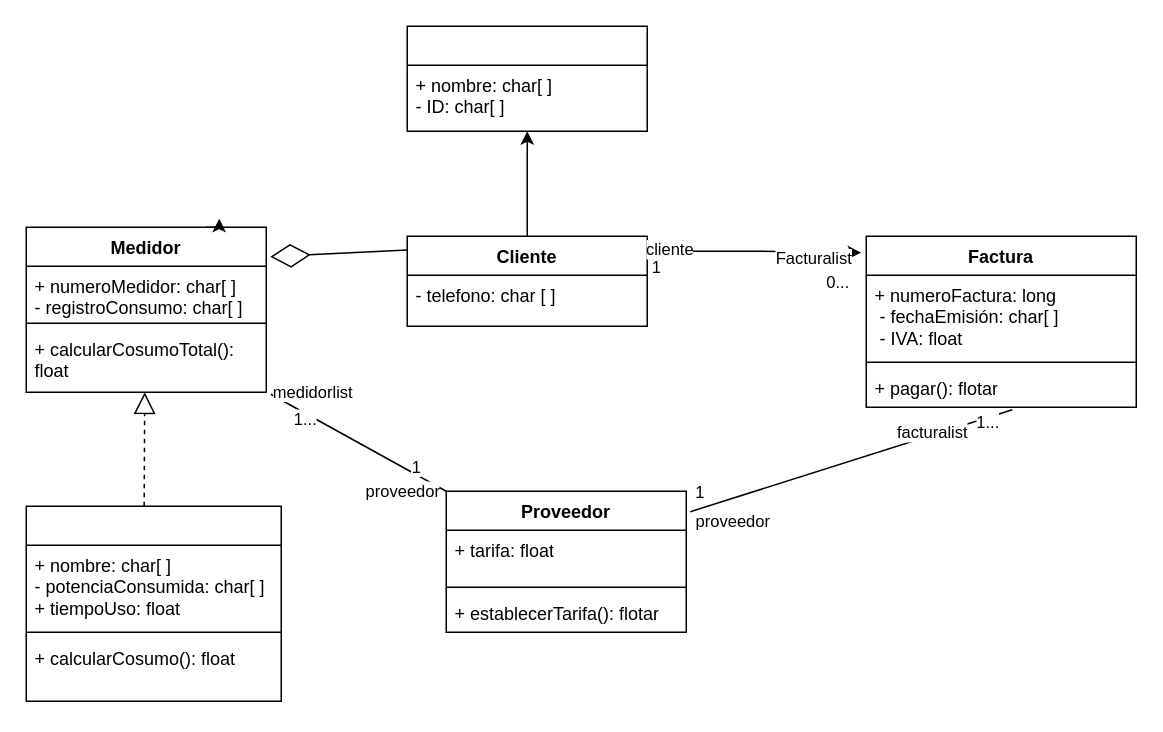
Some shapes in this 1163 by 732 pixel diagram are drawn without their labels. The box of each missing label's shape, as (x1, y1, x2, y2) in pixels:
DispositivoElectrico: (25, 505, 281, 701)
Persona: (406, 25, 647, 131)
